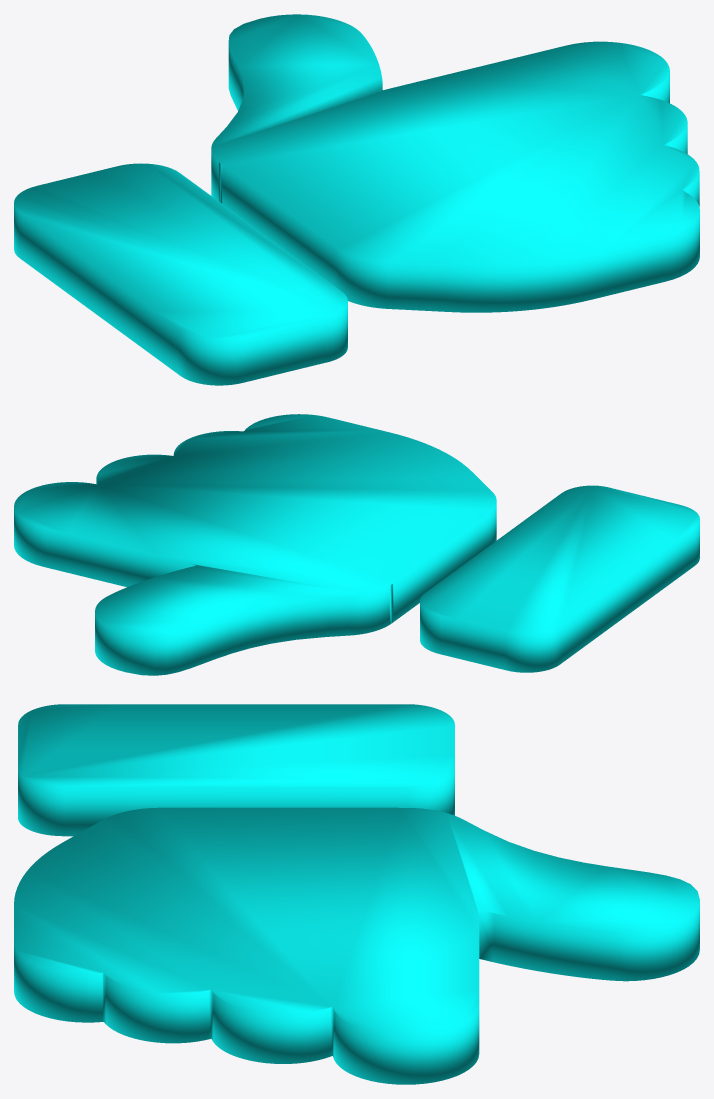
The picture shows the model from 3 angles, top to bottom: view 1: azimuth 30°, elevation 25°; view 2: azimuth 150°, elevation 25°; view 3: azimuth 270°, elevation 25°; orthographic projection. The views are drawn at different scales.
Parts seen in each view (by area): view 1: Curve; view 2: Curve; view 3: Curve.
Boxes of the visible parts, bbox=[...] form: Curve: bbox=[14, 14, 699, 385]; Curve: bbox=[14, 414, 699, 675]; Curve: bbox=[14, 704, 699, 1084].
Bounding box in the file's own units: 0.1445 × 0.01 × 0.1264.
